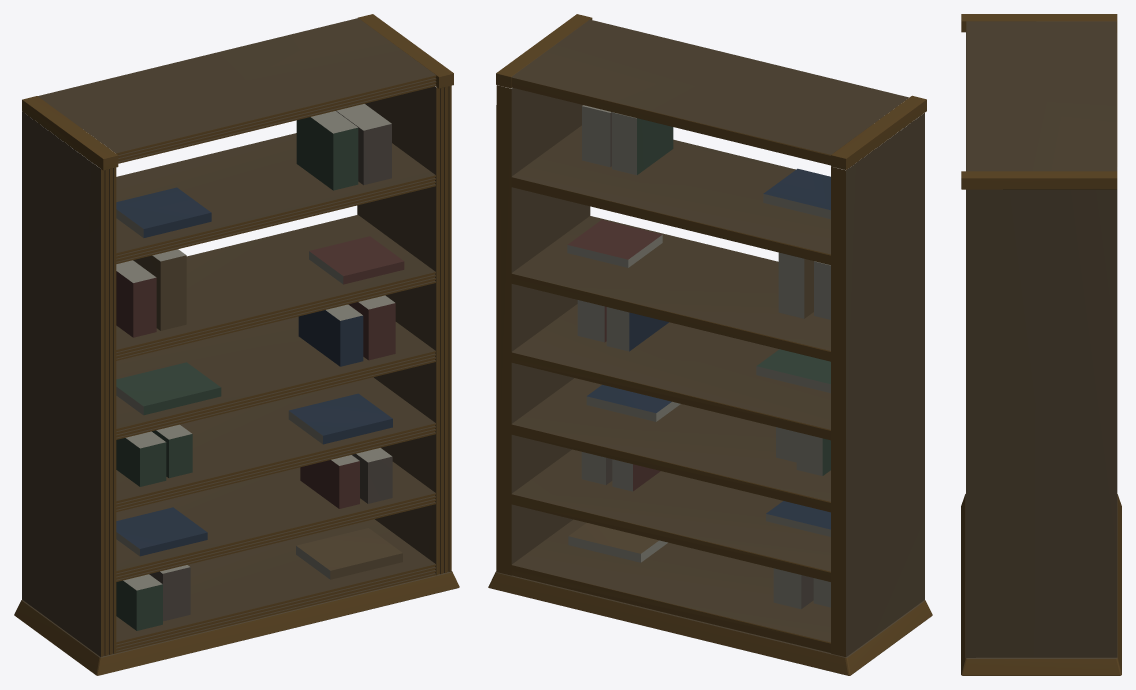
File: bookcase.glb
The picture shows the model from 3 angles, left to right: view 1: azimuth 30°, elevation 25°; view 2: azimuth 150°, elevation 25°; view 3: azimuth 270°, elevation 25°; orthographic projection. The views are drawn at different scales.
Parts seen in each view (by area): view 1: bookcase; view 2: bookcase; view 3: bookcase.
Boxes of the visible parts, x1=… form: bookcase: x1=14, y1=14, x2=459, y2=675; bookcase: x1=488, y1=14, x2=932, y2=675; bookcase: x1=961, y1=14, x2=1121, y2=675.
Size of the model in its own units: 1.4 by 1.9 by 0.56.
